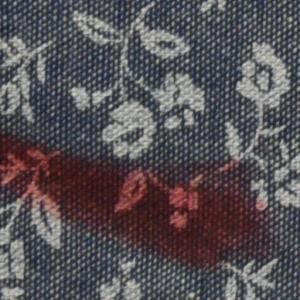Stain: (1, 125, 281, 279)
